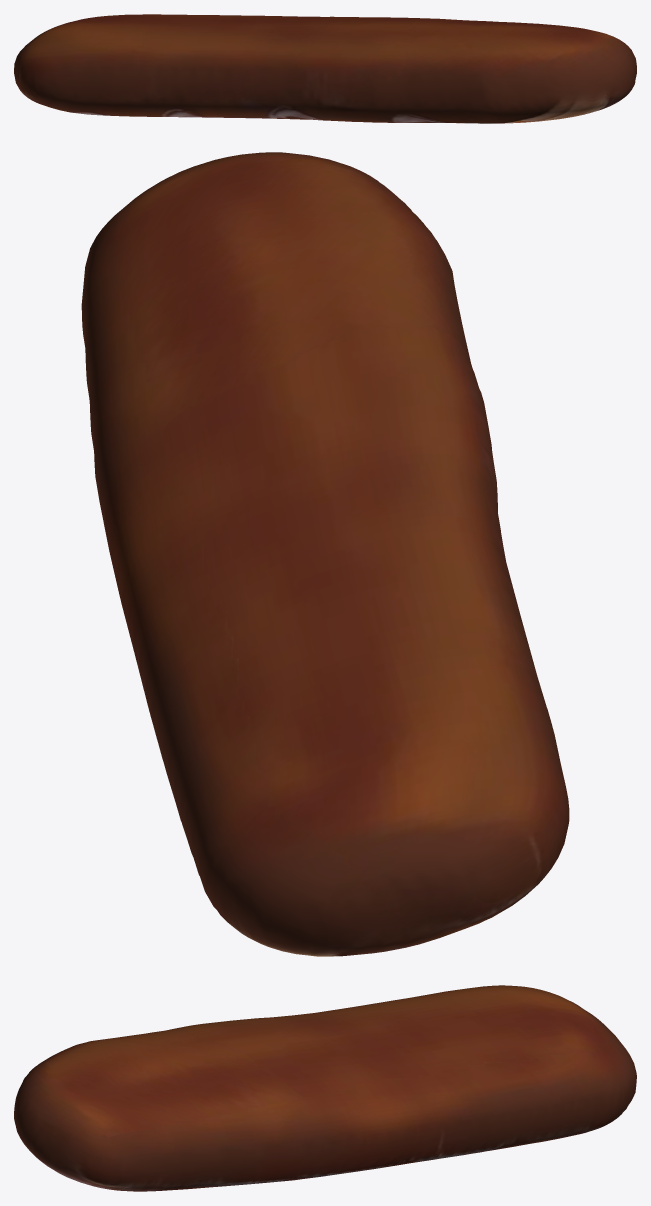
File: eclair.glb
3 renders of one model, top to bottom at view 1: azimuth 30°, elevation 25°; view 2: azimuth 150°, elevation 25°; view 3: azimuth 270°, elevation 25°, orthographic. The views are drawn at different scales.
Visible parts, largest first — view 1: Object_5; view 2: Object_5; view 3: Object_5.
Part boxes in pixels (x1=…): Object_5: x1=14, y1=14, x2=636, y2=123; Object_5: x1=81, y1=152, x2=569, y2=956; Object_5: x1=14, y1=985, x2=636, y2=1191.
Size of the model in its own units: 0.121 by 0.0444 by 0.14.
Materials: 1 (1 with a texture image).
